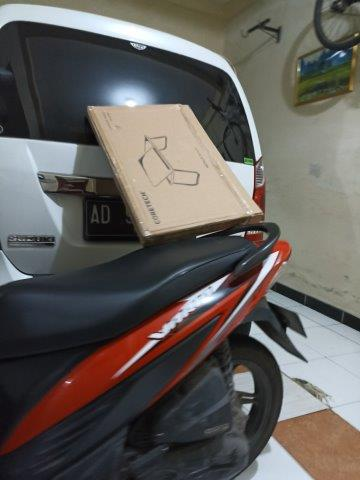kardus: (89, 102, 261, 242)
